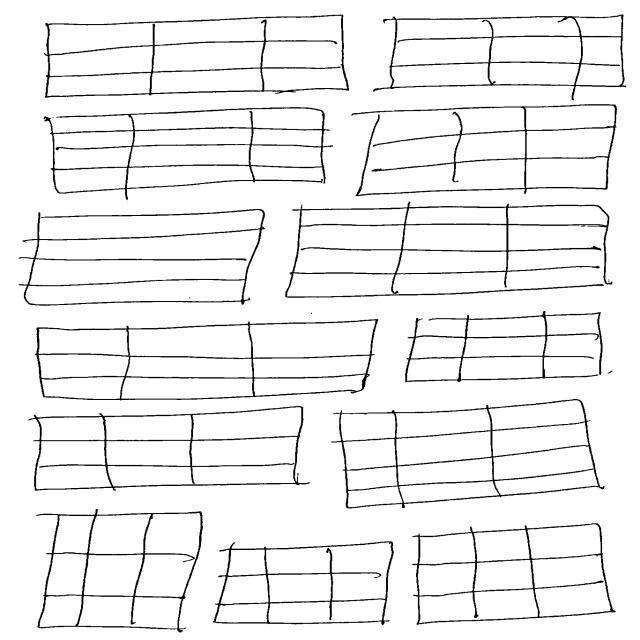table: (286, 202, 613, 299), (332, 400, 605, 510), (35, 320, 379, 401), (45, 108, 335, 201), (44, 15, 350, 98), (345, 105, 618, 197), (19, 210, 268, 307), (28, 407, 312, 492), (374, 15, 627, 101), (411, 524, 616, 625), (37, 510, 204, 633), (213, 542, 394, 626), (406, 312, 603, 384)
